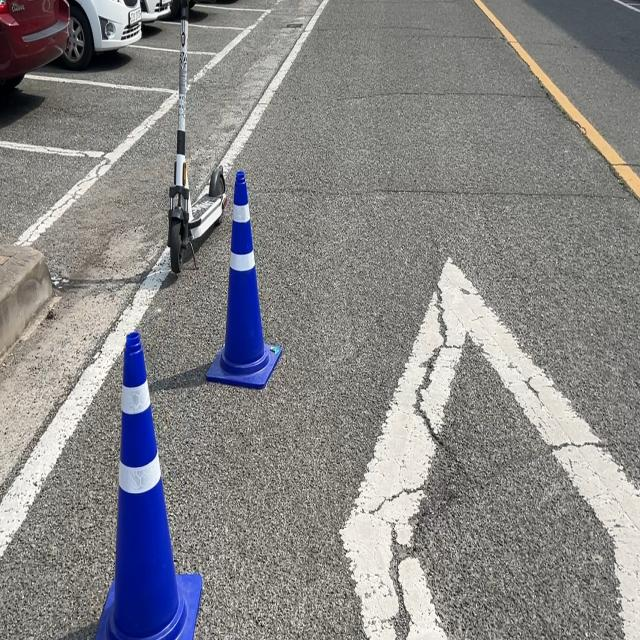b_rub: (95, 332, 202, 640), (206, 169, 283, 388)
